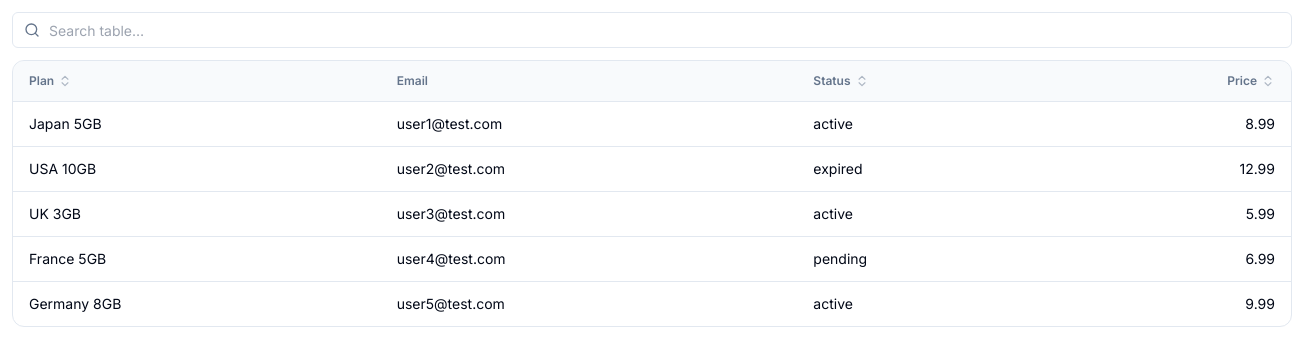
Test case: DataTable › filters data by search query
Type "Japan" into the search field at (652, 30), box [12, 12, 1292, 48]
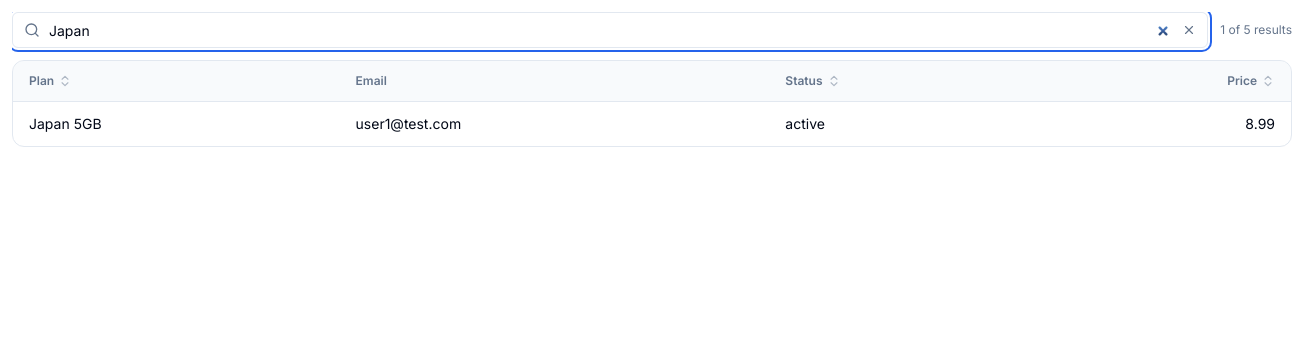
Expected: the text "Japan 5GB" is shown, [13, 102, 340, 146]
Expected: the text "USA 10GB" is gone
